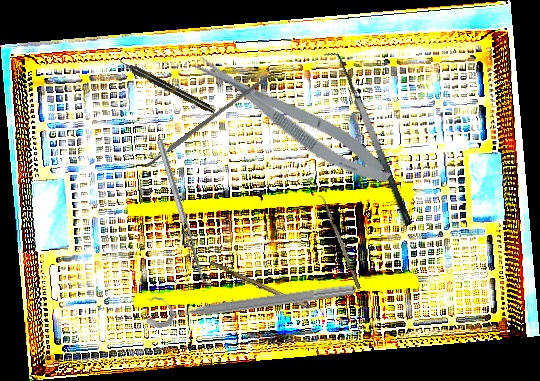Chopper: (316, 192, 361, 292)
Fixation Ring: (141, 267, 358, 330)
Handpiece: (118, 57, 217, 116)
Micro Scissor: (188, 42, 398, 196)
Scalpel Handle: (143, 69, 277, 169)
Spatula Surgical: (322, 46, 414, 232), (156, 137, 214, 289)
Surgical Spoon: (208, 260, 346, 325)
